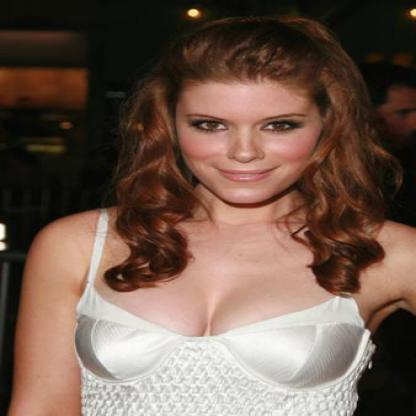long-hair: (112, 207, 380, 246)
